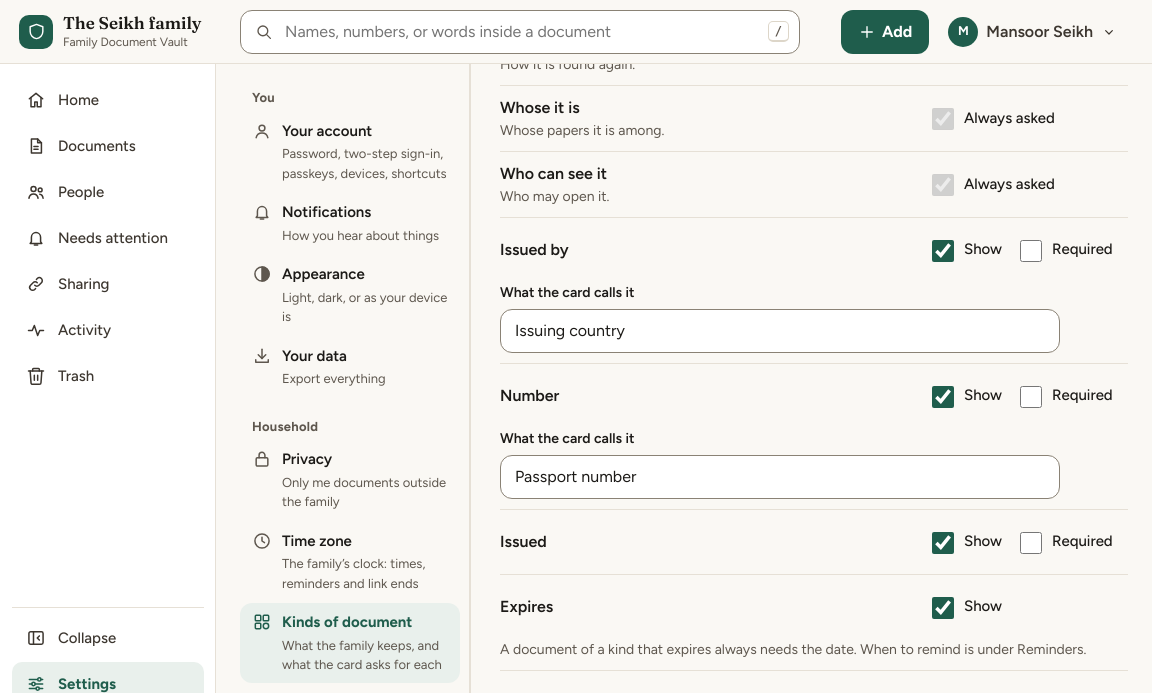
Test: Kinds of document: the 5.12 review › renaming a field a warning names does not say the warning again at every letter
(page scrolled)
Click the 2nd checkbox labelled "Required".
click(1031, 397)  # box [1020,386,1042,408]
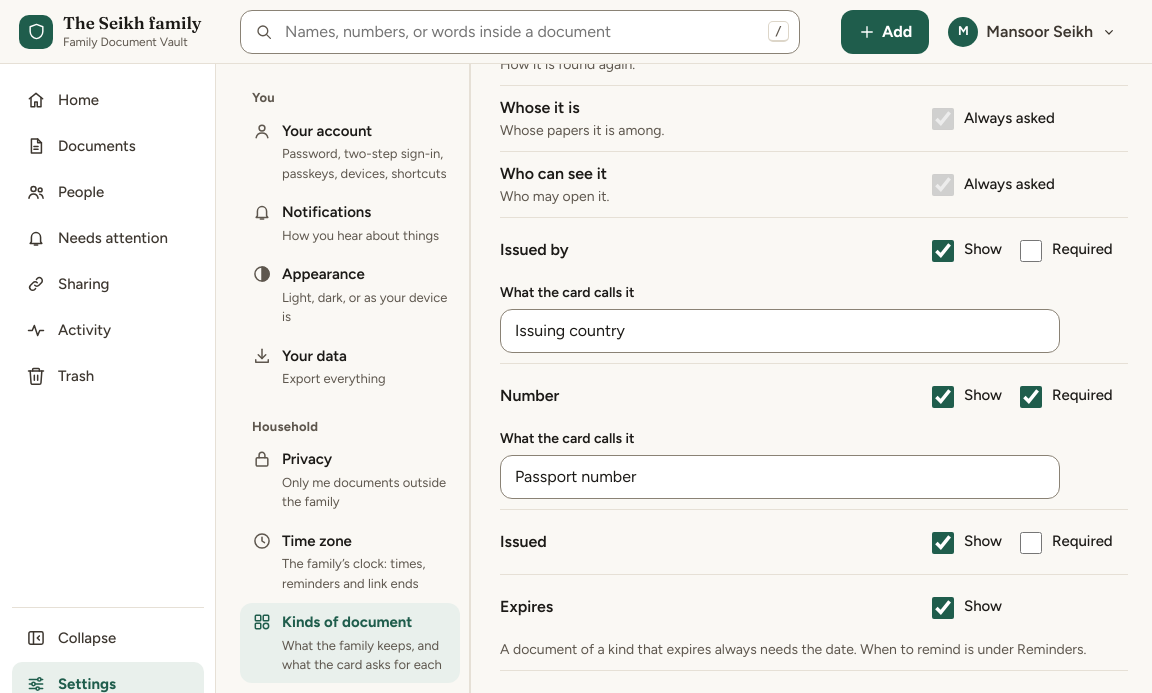
Replace the text in the 2nd field labelled "What the card calls it" with "Passport numbe" at {"x": 780, "y": 477}, box [500,455,1060,499]
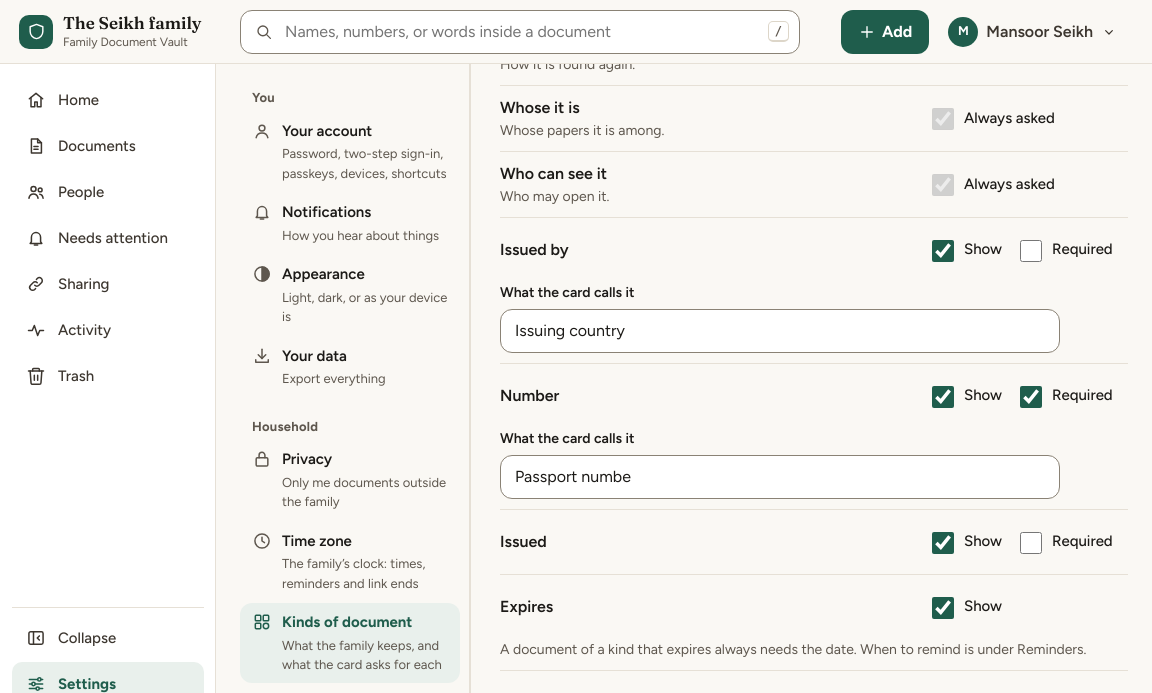
Replace the text in the 2nd field labelled "What the card calls it" with "Passport numb" at {"x": 780, "y": 477}, box [500,455,1060,499]
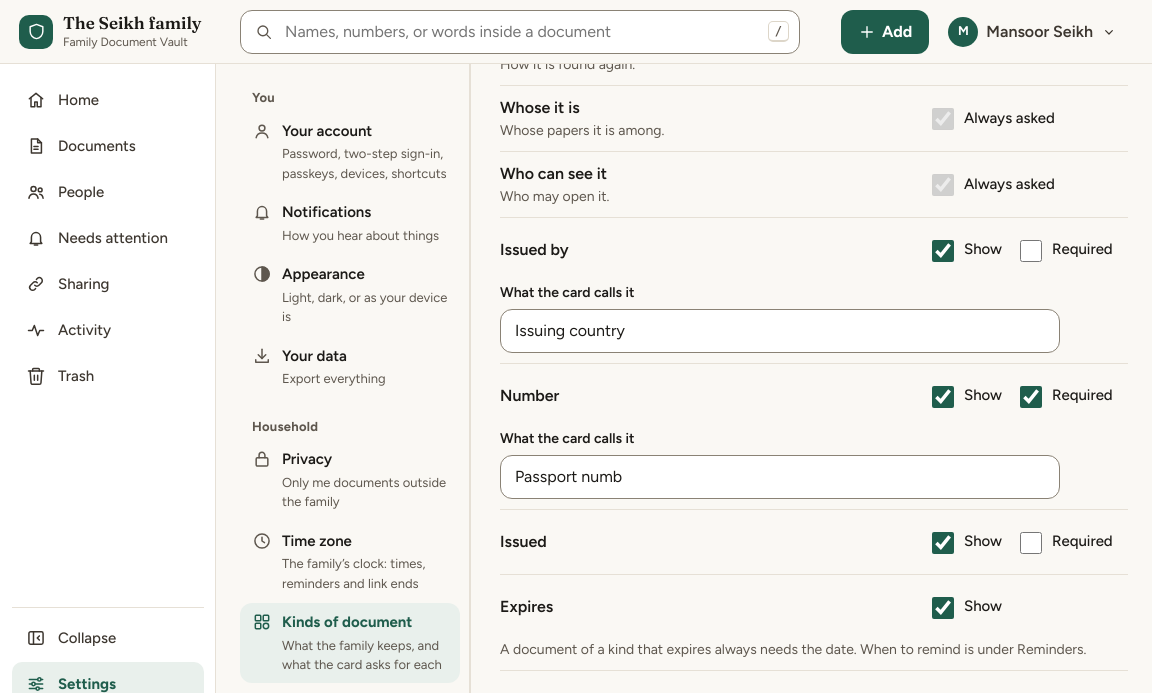
Replace the text in the 2nd field labelled "What the card calls it" with "Passport no" at {"x": 780, "y": 477}, box [500,455,1060,499]
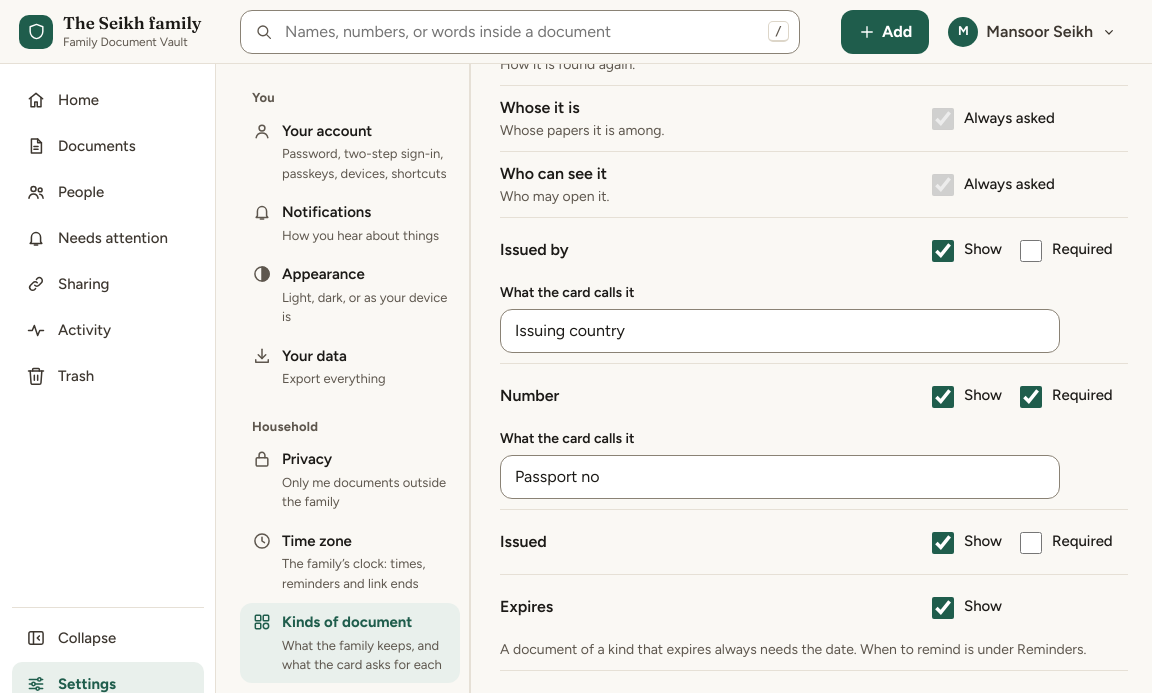
Replace the text in the 2nd field labelled "What the card calls it" with "Passport no." at {"x": 780, "y": 477}, box [500,455,1060,499]
(page scrolled)
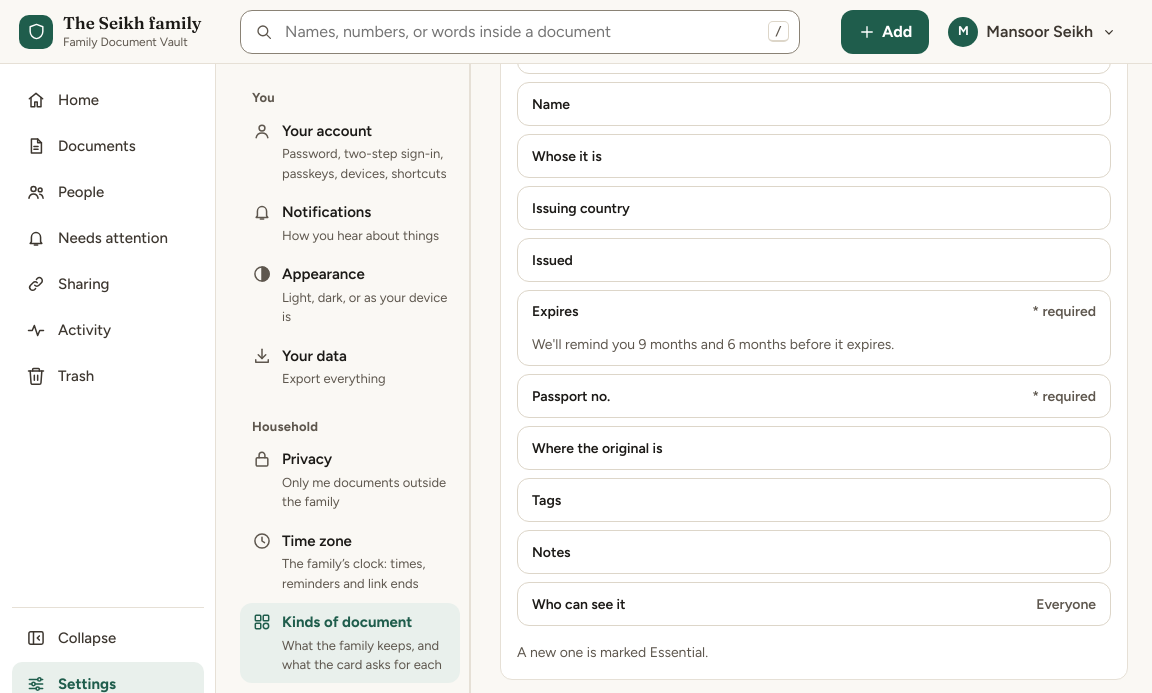
Expected: the text "Passport no." is shown, [532,386,610,406]
